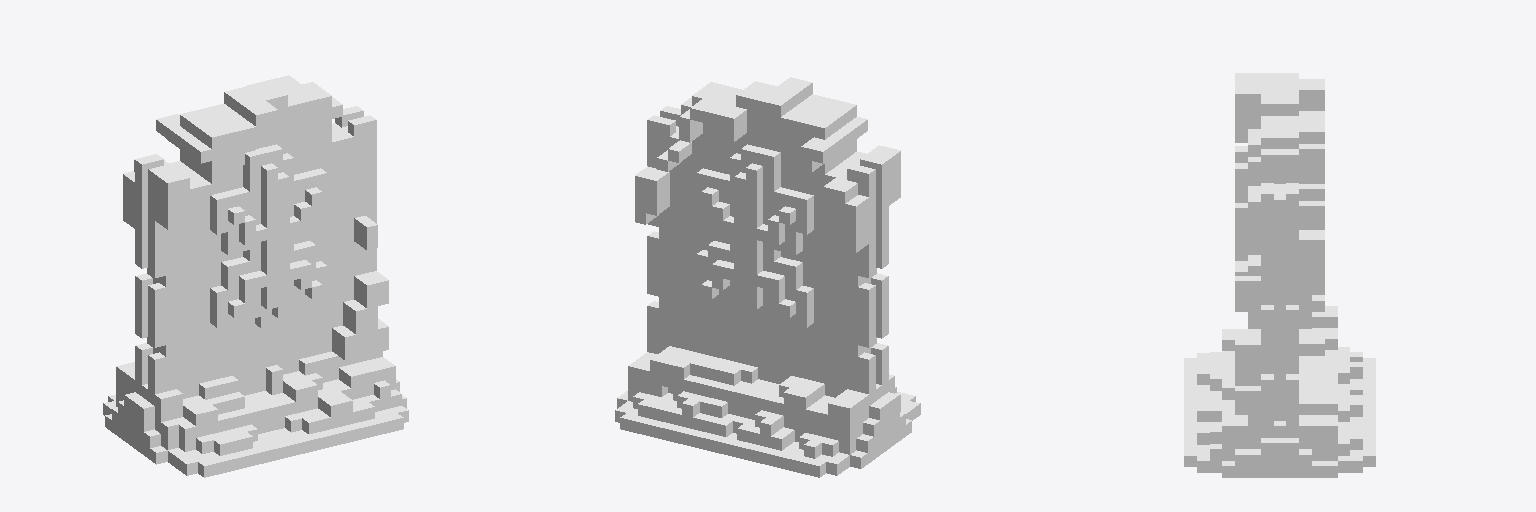
File: RuneStone3.obj
3 renders of one model, left to right at view 1: azimuth 30°, elevation 25°; view 2: azimuth 150°, elevation 25°; view 3: azimuth 270°, elevation 25°, orthographic.
Visible parts, largest first — view 1: object 1; view 2: object 1; view 3: object 1.
Boxes of the visible parts, <box> form: object 1: <box>103,75,408,477</box>; object 1: <box>615,77,920,477</box>; object 1: <box>1184,73,1375,477</box>.
Size of the model in its own units: 2.2 by 2.8 by 1.5.